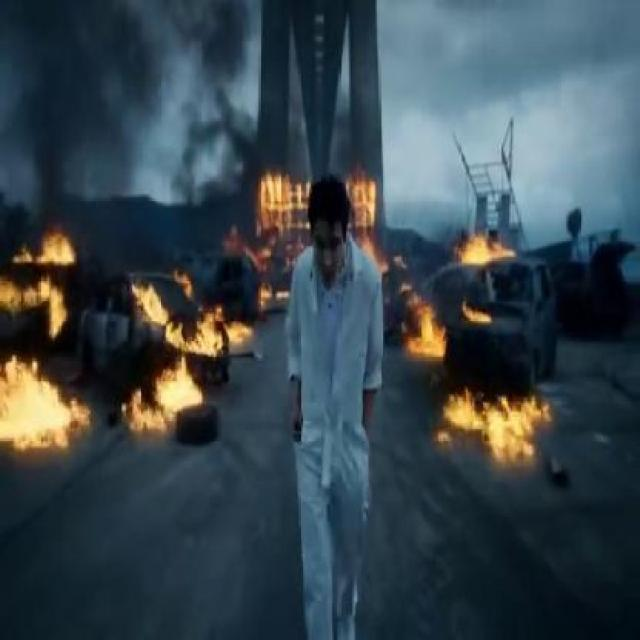fire: (438, 386, 546, 457), (7, 338, 76, 449), (134, 283, 228, 354), (131, 336, 200, 432), (254, 176, 302, 244), (403, 304, 451, 356), (350, 172, 382, 242), (452, 238, 510, 274), (38, 223, 78, 272), (32, 288, 72, 334)
smoke: (0, 2, 154, 210), (156, 2, 256, 222), (262, 27, 390, 166), (396, 140, 458, 256)
